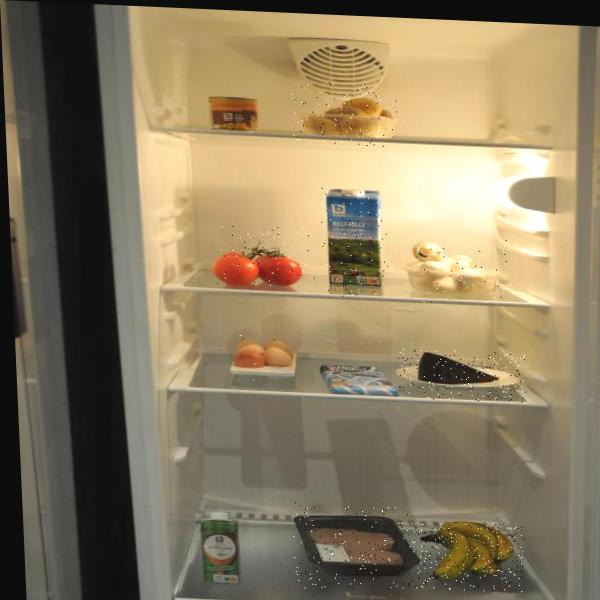banana: (411, 519, 526, 593)
cheese: (398, 348, 527, 404)
eggs: (234, 334, 289, 385)
meat: (292, 502, 413, 593)
milk: (320, 187, 390, 300)
mushroom: (404, 234, 513, 307), (290, 81, 400, 148)
tomatoes: (210, 223, 317, 289)
